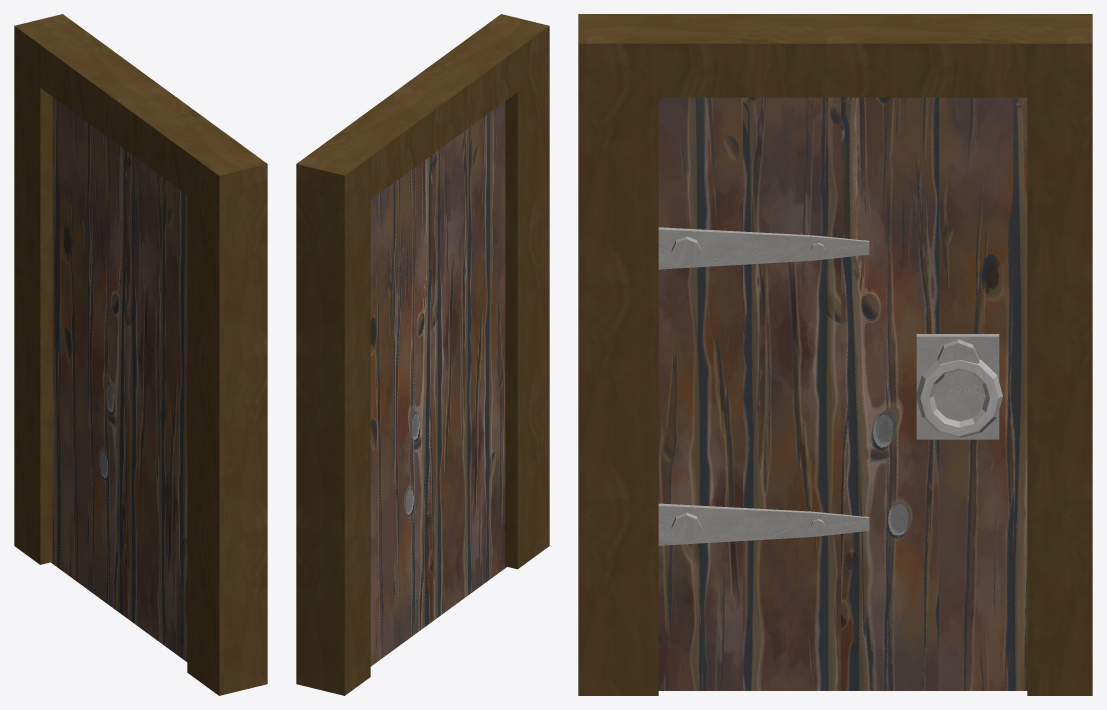
Rendered from main_door.glb.
The picture shows the model from 3 angles, left to right: view 1: azimuth 30°, elevation 25°; view 2: azimuth 150°, elevation 25°; view 3: azimuth 270°, elevation 25°; orthographic projection. The views are drawn at different scales.
Parts seen in each view (by area): view 1: framuga, drzwi; view 2: framuga, drzwi; view 3: drzwi, framuga, klamka, zelastwo.001, zelastwo.
Part boxes in pixels (x1=…): framuga: x1=14, y1=14, x2=267, y2=695; drzwi: x1=51, y1=97, x2=187, y2=661; framuga: x1=296, y1=14, x2=549, y2=695; drzwi: x1=370, y1=101, x2=506, y2=666; drzwi: x1=658, y1=97, x2=1027, y2=690; framuga: x1=578, y1=14, x2=1092, y2=695; klamka: x1=916, y1=334, x2=1002, y2=439; zelastwo.001: x1=658, y1=503, x2=869, y2=545; zelastwo: x1=658, y1=227, x2=869, y2=269.
Size of the model in its own units: 0.3637 by 3.23 by 2.3.
9 materials, 9 textured.
